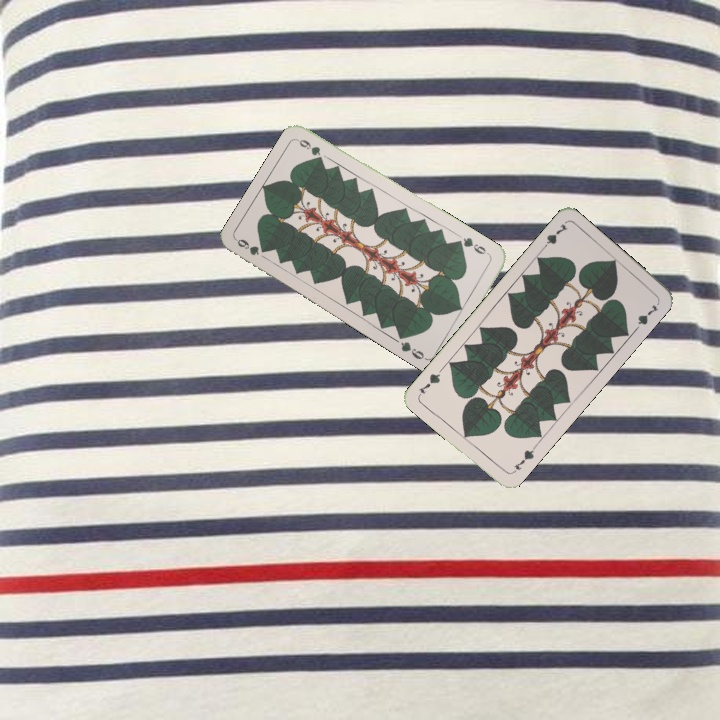G7: (537, 219, 571, 253), (508, 442, 538, 476)
G9: (454, 233, 493, 259), (233, 235, 270, 258)
